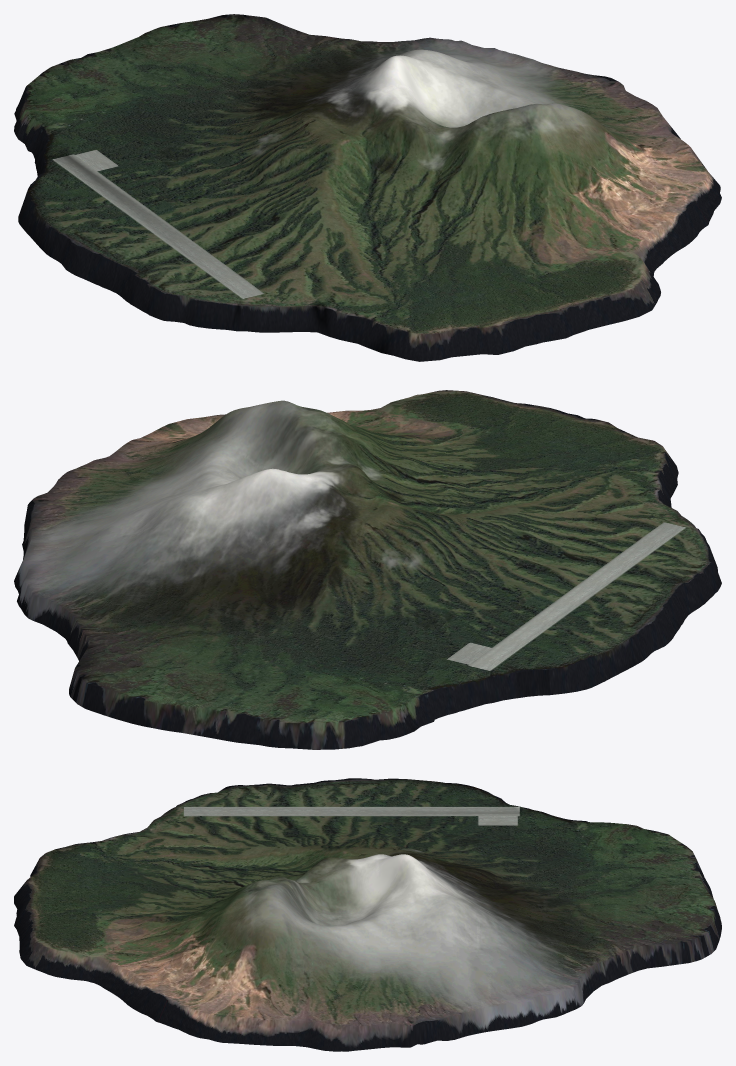
The model's file is homebase_ctr0.glb.
3 views of the same model, one above another, from view 1: azimuth 30°, elevation 25°; view 2: azimuth 150°, elevation 25°; view 3: azimuth 270°, elevation 25° (orthographic). The views are drawn at different scales.
Parts seen in each view (by area): view 1: Alamagan; view 2: Alamagan; view 3: Alamagan.
Part boxes in pixels (x1,y1,x2,y2): Alamagan: [14, 14, 721, 361]; Alamagan: [14, 390, 721, 749]; Alamagan: [14, 778, 721, 1051].
Bounding box in the file's own units: 0.7743 × 0.1301 × 0.9017.
Materials: 1 (1 with a texture image).
